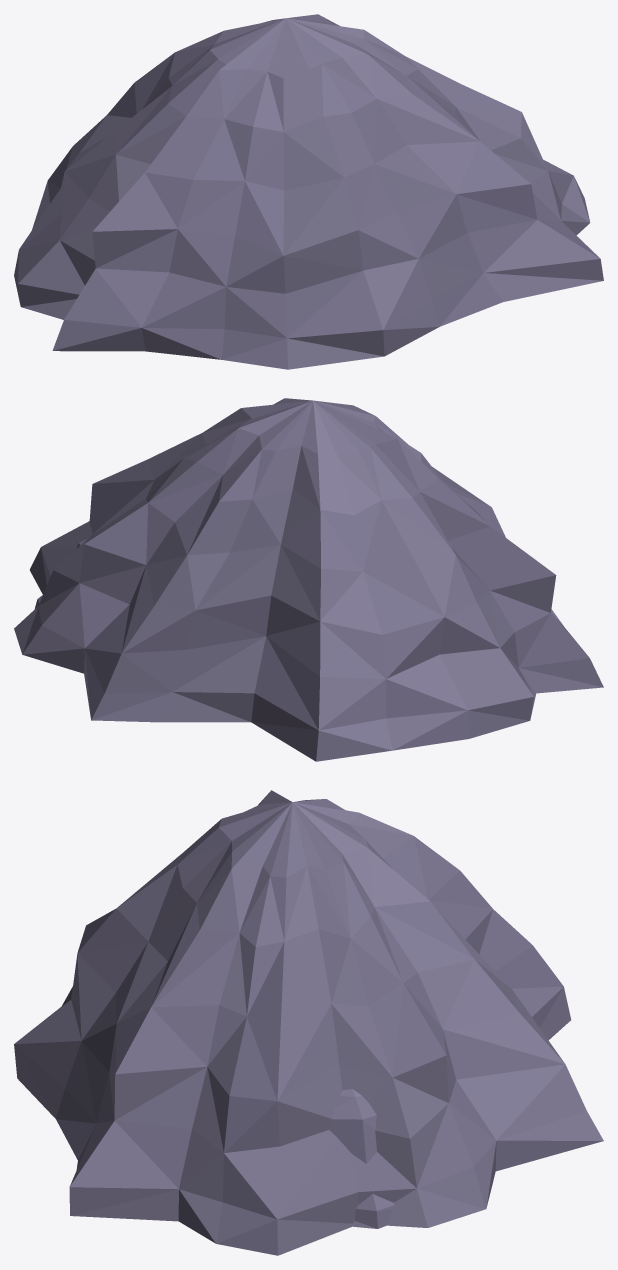
3 renders of one model, top to bottom at view 1: azimuth 30°, elevation 25°; view 2: azimuth 150°, elevation 25°; view 3: azimuth 270°, elevation 25°, orthographic. The views are drawn at different scales.
Visible parts, largest first — view 1: 山体; view 2: 山体; view 3: 山体.
Part boxes in pixels (left/top/right/bottom): 山体: left=14, top=14, right=603, bottom=369; 山体: left=14, top=398, right=603, bottom=761; 山体: left=14, top=790, right=603, bottom=1255.
Size of the model in its own units: 58.9 by 25 by 46.5.
